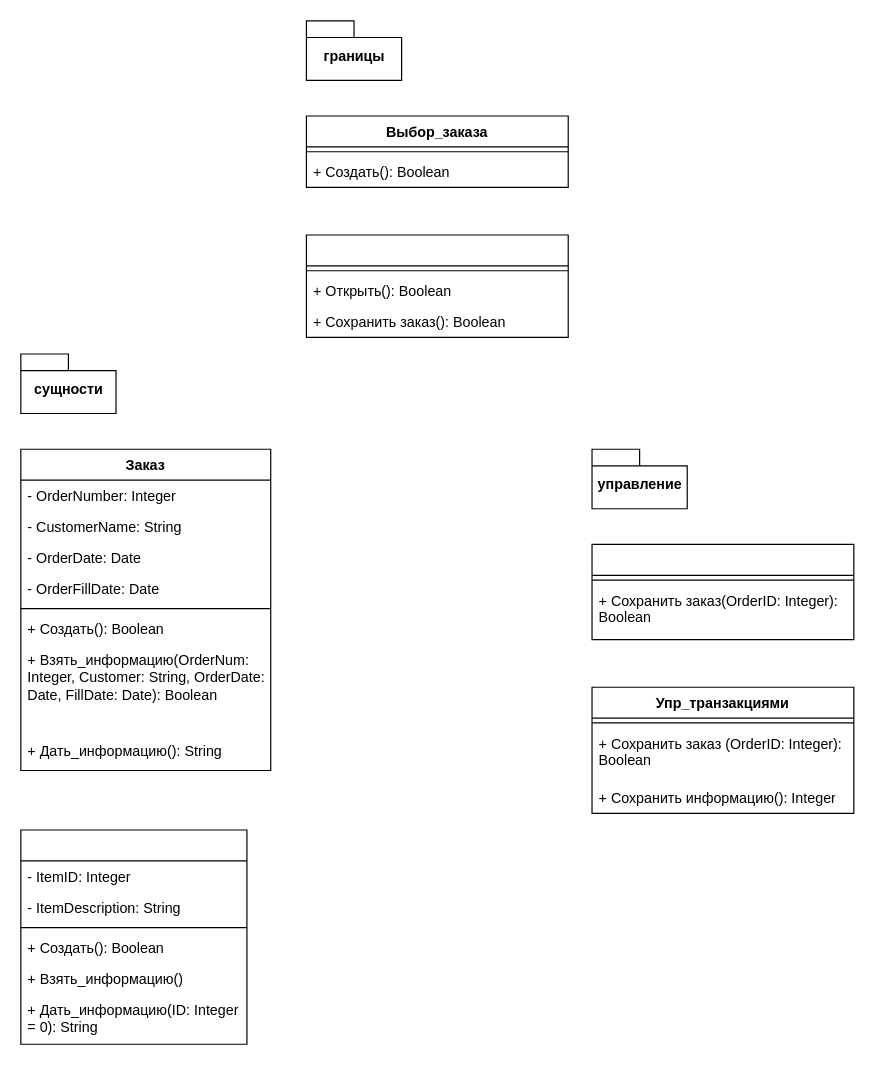
This 875x1069 diagram has some shape labels left out. Here are the shapes that lost their labels. From the top down, the box of each, then its label:
(305, 234, 568, 337): Заказ_деталей
(591, 543, 854, 640): Упр_заказами
(20, 829, 247, 1044): Позиц_заказа
